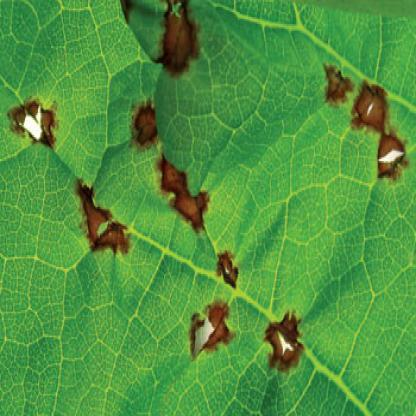grape leaf black rot: (1, 2, 415, 404)
